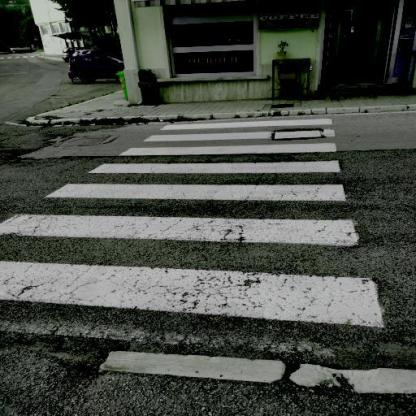crosswalk: (1, 210, 389, 334), (85, 141, 346, 176)
